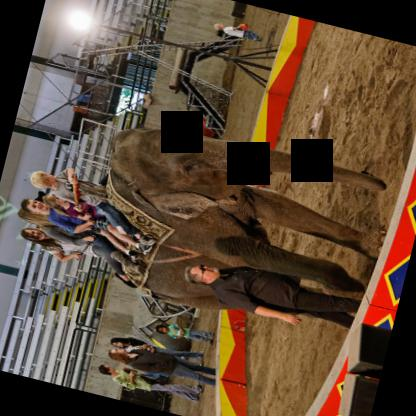handbag: (134, 373, 170, 385)
